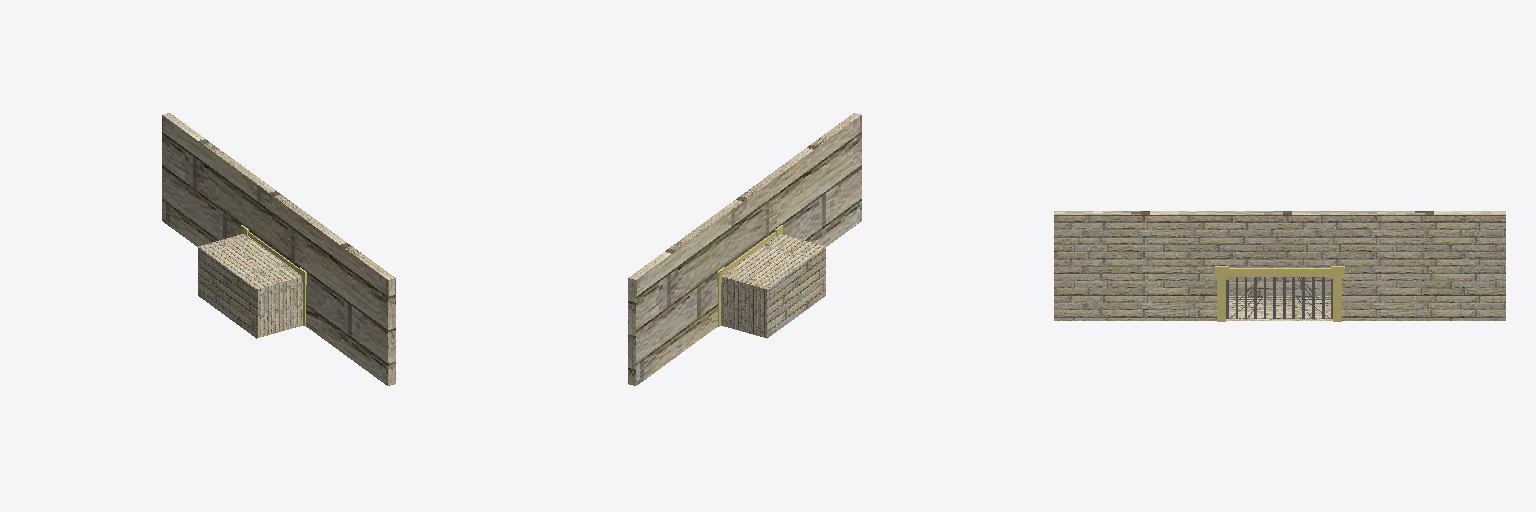
3 views of the same model, side by side, from view 1: azimuth 30°, elevation 25°; view 2: azimuth 150°, elevation 25°; view 3: azimuth 270°, elevation 25° (orthographic).
Parts seen in each view (by area): view 1: wall, fence; view 2: wall, fence; view 3: wall, fence.
Part boxes in pixels (x1,y1,x2,y2): wall: (162, 113, 395, 385); fence: (241, 225, 306, 326); wall: (628, 113, 861, 385); fence: (717, 225, 782, 326); wall: (1054, 211, 1505, 320); fence: (1215, 266, 1344, 321).
Bounding box in the file's own units: 14.72 × 26.43 × 100.
3 materials, 2 textured.